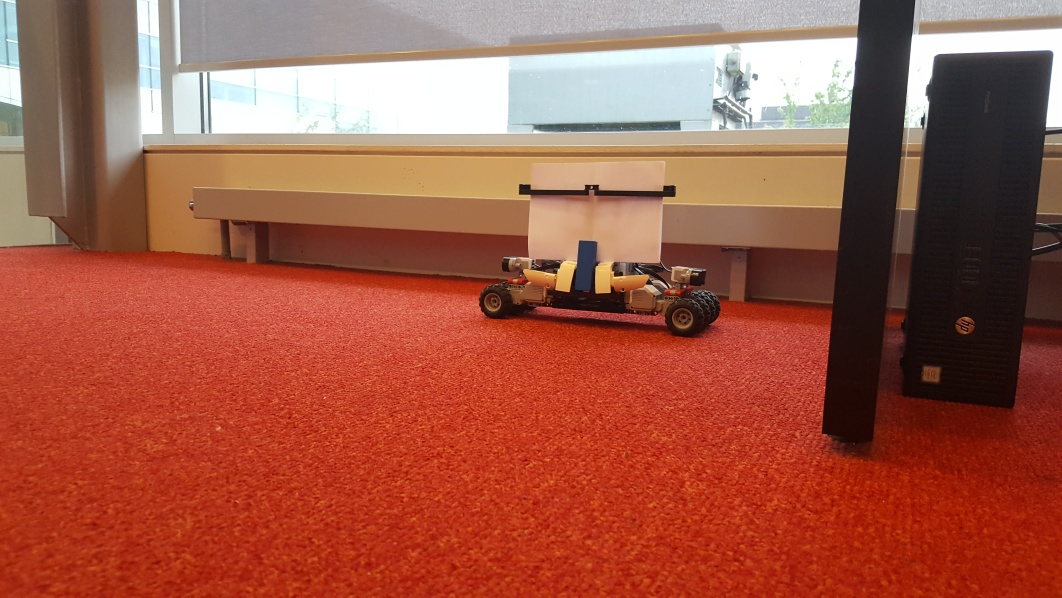car: (479, 156, 722, 336)
